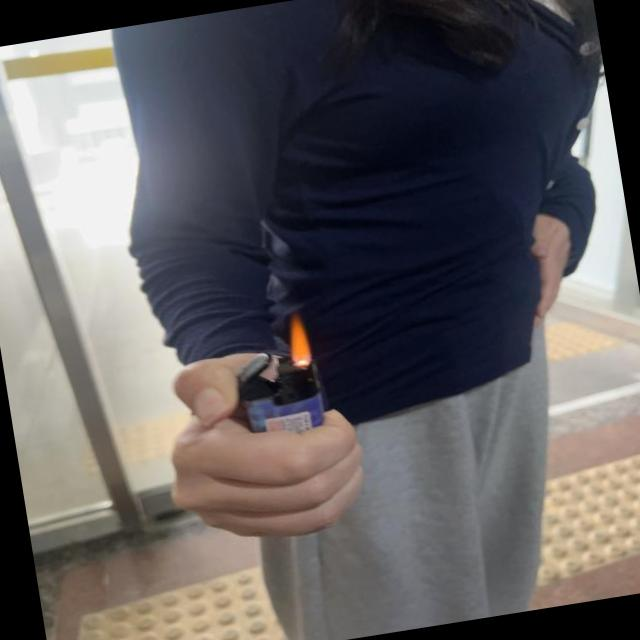Fire: (286, 316, 312, 362)
